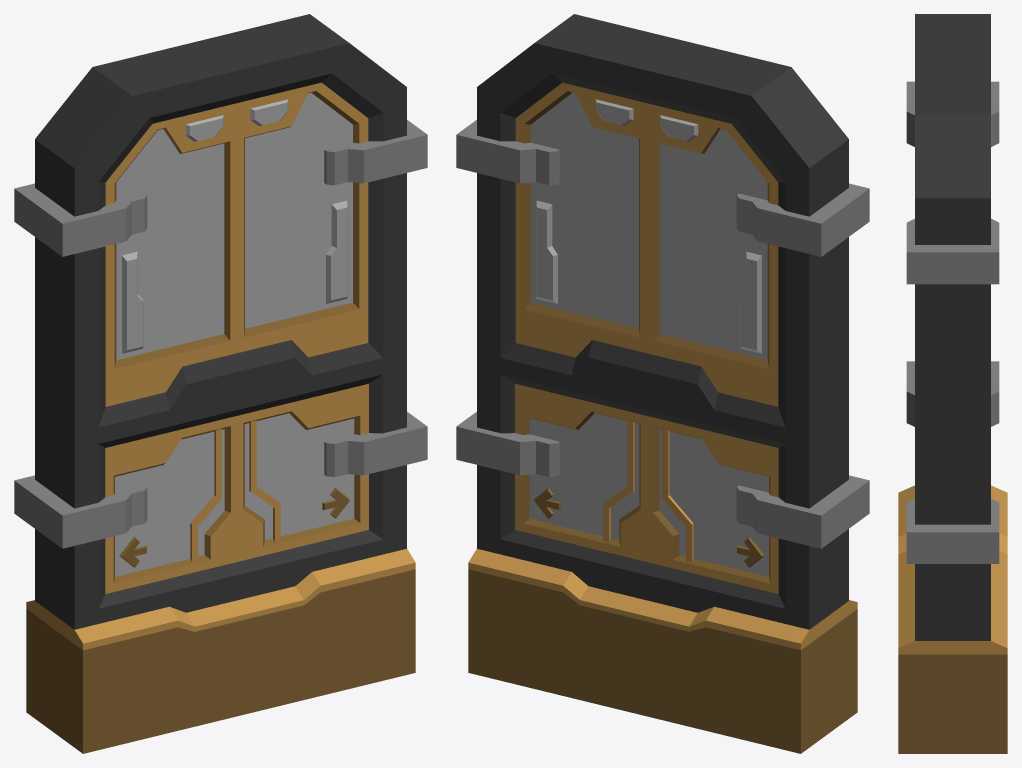
The model's file is Door_Single_GD.glb.
3 views of the same model, side by side, from view 1: azimuth 30°, elevation 25°; view 2: azimuth 150°, elevation 25°; view 3: azimuth 270°, elevation 25° (orthographic). The views are drawn at different scales.
Visible parts, largest first — view 1: Door_Single; view 2: Door_Single; view 3: Door_Single.
Part boxes in pixels (box(x1,y1,x2,y2)): Door_Single: box(14, 14, 427, 753); Door_Single: box(456, 14, 869, 753); Door_Single: box(898, 14, 1007, 753).
Size of the model in its own units: 12.55 by 20.93 by 3.39.
